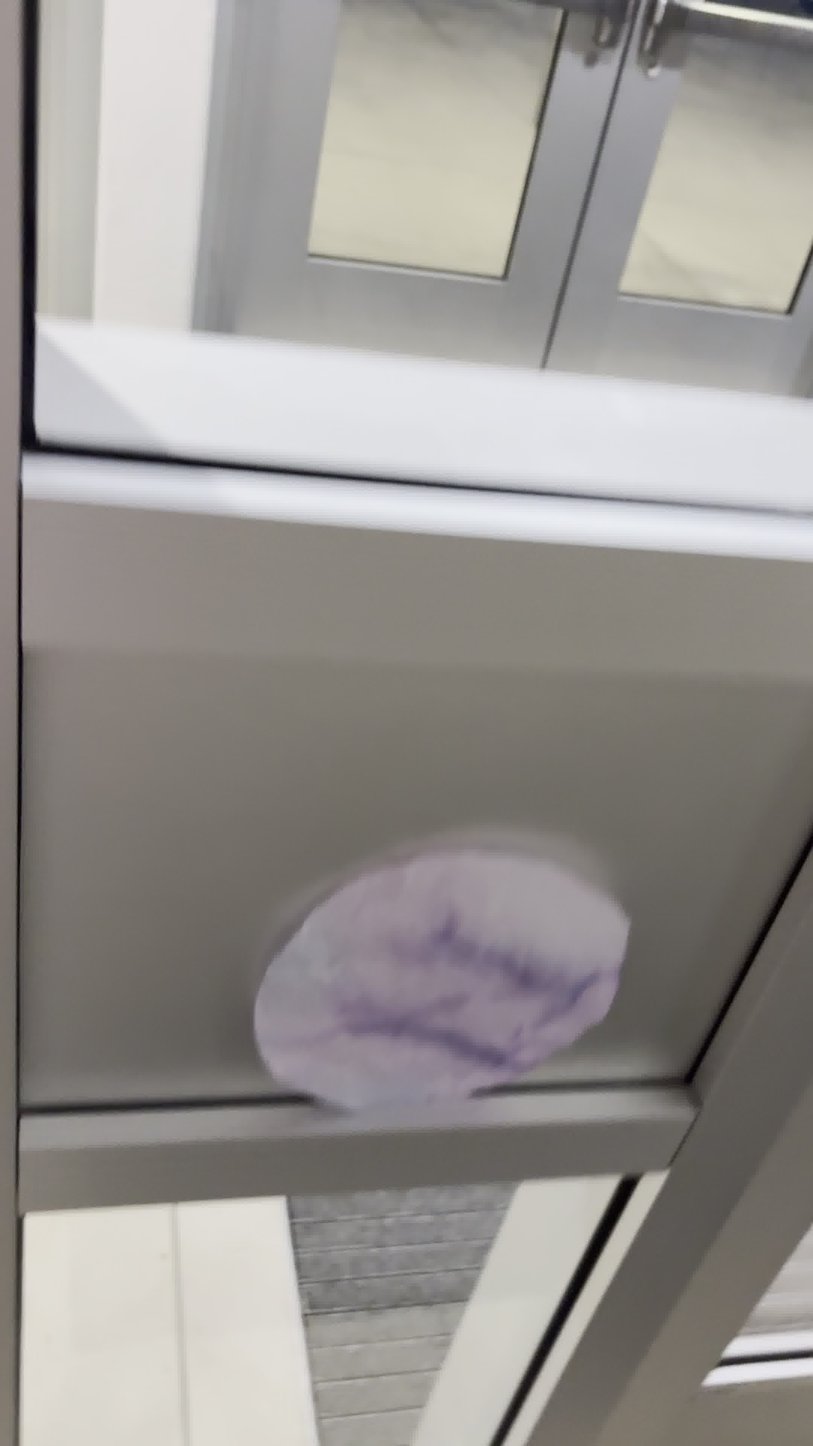Target: (234, 842, 649, 1121)
